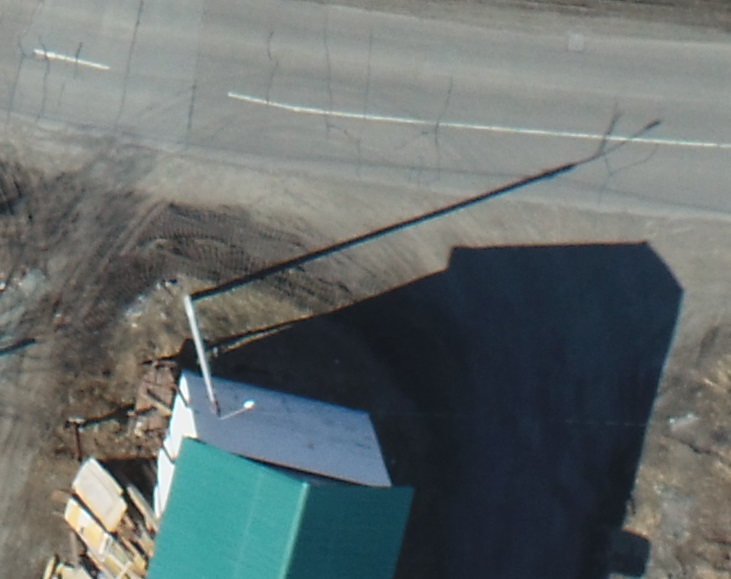opora: (181, 269, 267, 424)
